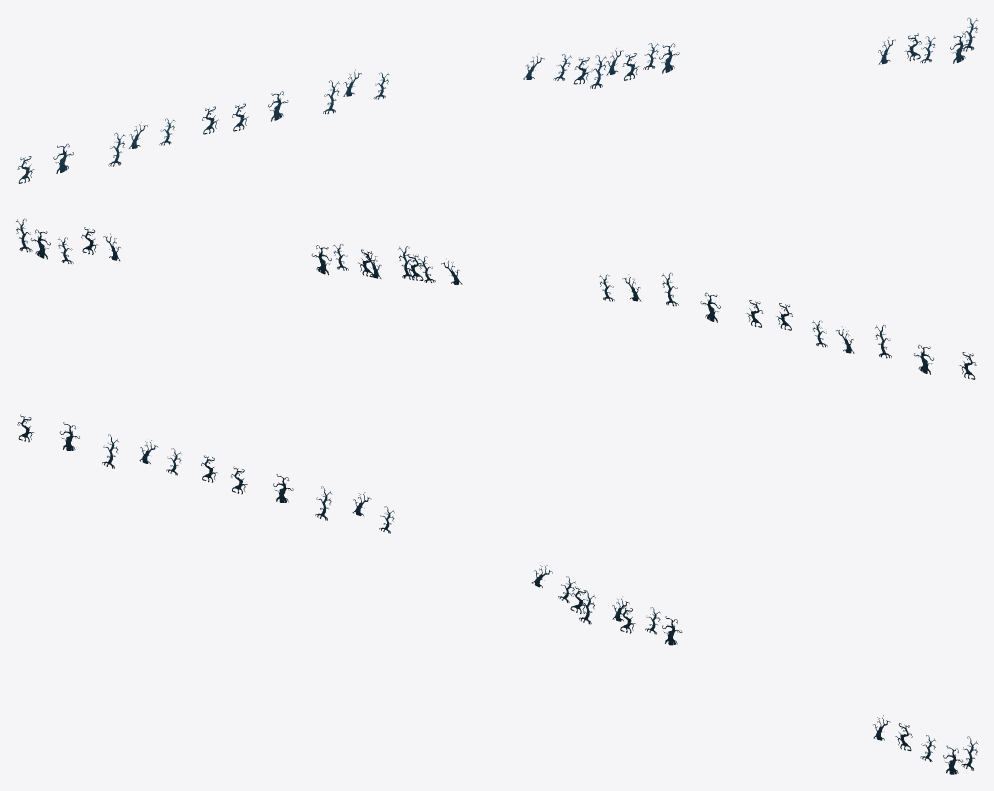
File: Dark Forest Scary Trees BG.FBX
3 renders of one model, top to bottom at view 1: azimuth 30°, elevation 25°; view 2: azimuth 150°, elevation 25°; view 3: azimuth 330°, elevation 25°, orthographic.
Visible parts, largest first — view 1: Scary Trees BG Part 2, Scary Trees BG Part 4, Scary Trees BG Part 3; view 2: Scary Trees BG Part 2, Scary Trees BG Part 4, Scary Trees BG Part 3; view 3: Scary Trees BG Part 2, Scary Trees BG Part 4, Scary Trees BG Part 3.
Part boxes in pixels (x1=…): Scary Trees BG Part 2: x1=108, y1=53, x2=591, y2=166; Scary Trees BG Part 4: x1=878, y1=17, x2=977, y2=64; Scary Trees BG Part 3: x1=590, y1=43, x2=679, y2=88; Scary Trees BG Part 2: x1=406, y1=254, x2=891, y2=358; Scary Trees BG Part 4: x1=16, y1=218, x2=120, y2=263; Scary Trees BG Part 3: x1=311, y1=244, x2=414, y2=279; Scary Trees BG Part 2: x1=102, y1=434, x2=586, y2=613; Scary Trees BG Part 4: x1=873, y1=715, x2=978, y2=774; Scary Trees BG Part 3: x1=579, y1=590, x2=682, y2=645.
Bounding box in the file's own units: 14072 × 242 × 2004.
